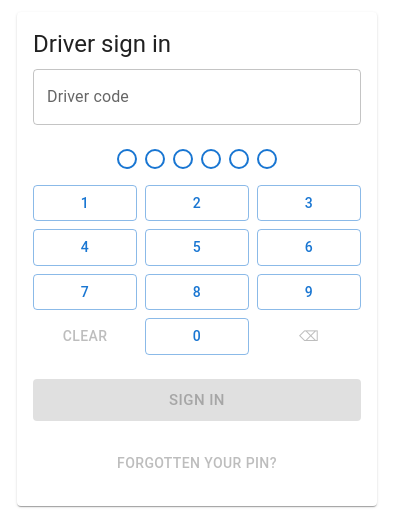
Driver PinLoginPage › offers a PIN reset only once a driver code is entered
expect the button "Forgotten your PIN?" is disabled: met, box [33,445,361,482]
Type "DRV-0001" into the field labelled "Driver code".
click(197, 97); type("DRV-0001")  # box [33,69,361,125]
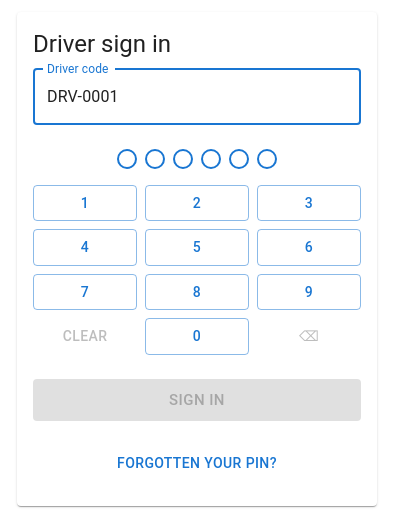
expect the button "Forgotten your PIN?" is enabled: met, box [33,445,361,482]
